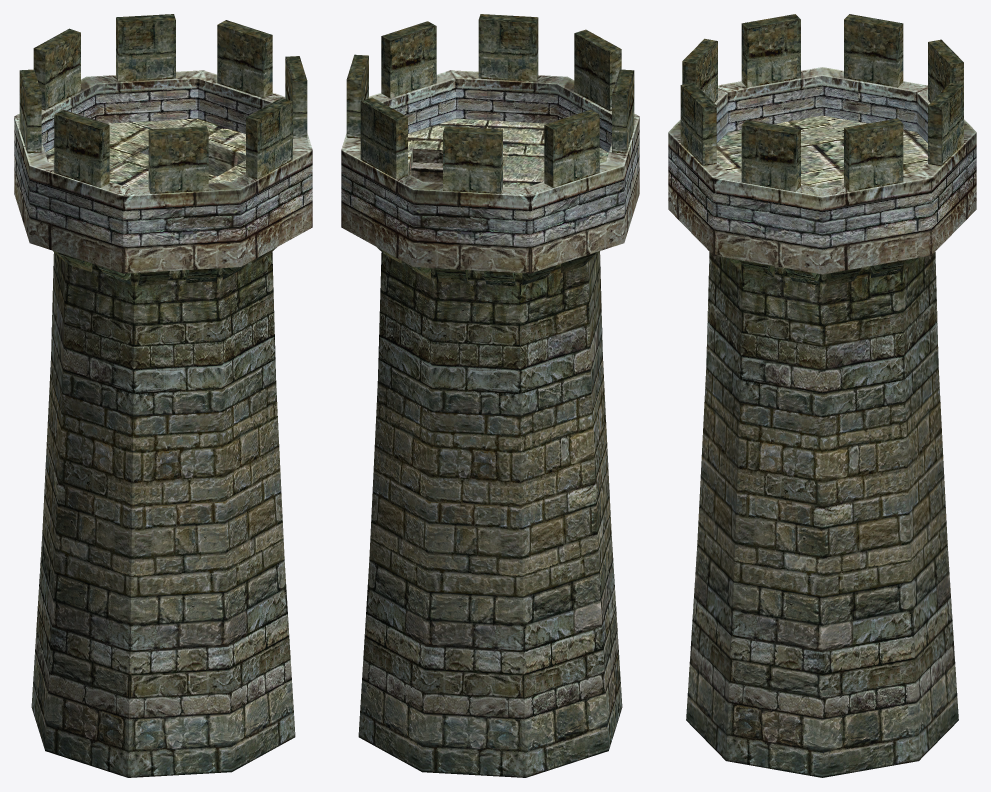
3 views of the same model, side by side, from view 1: azimuth 30°, elevation 25°; view 2: azimuth 150°, elevation 25°; view 3: azimuth 270°, elevation 25° (orthographic).
Visible parts, largest first — view 1: cc40-col; view 2: cc40-col; view 3: cc40-col.
Part boxes in pixels (x1=…): cc40-col: x1=14, y1=14, x2=312, y2=777; cc40-col: x1=341, y1=14, x2=639, y2=777; cc40-col: x1=668, y1=14, x2=976, y2=777.
Bounding box in the file's own units: 6.35 × 14.68 × 6.35.
Materials: 12 (12 with a texture image).
